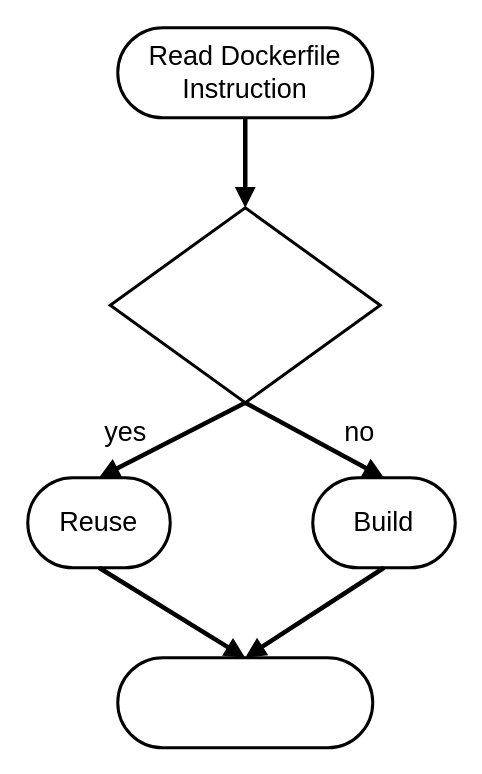
Some shapes in this 482 by 774 pixel diagram are drawn without their labels. Each missing label, with the centre of its shape:
Is layer available in cache?: (x=244, y=305)
Save image layer: (x=245, y=702)
